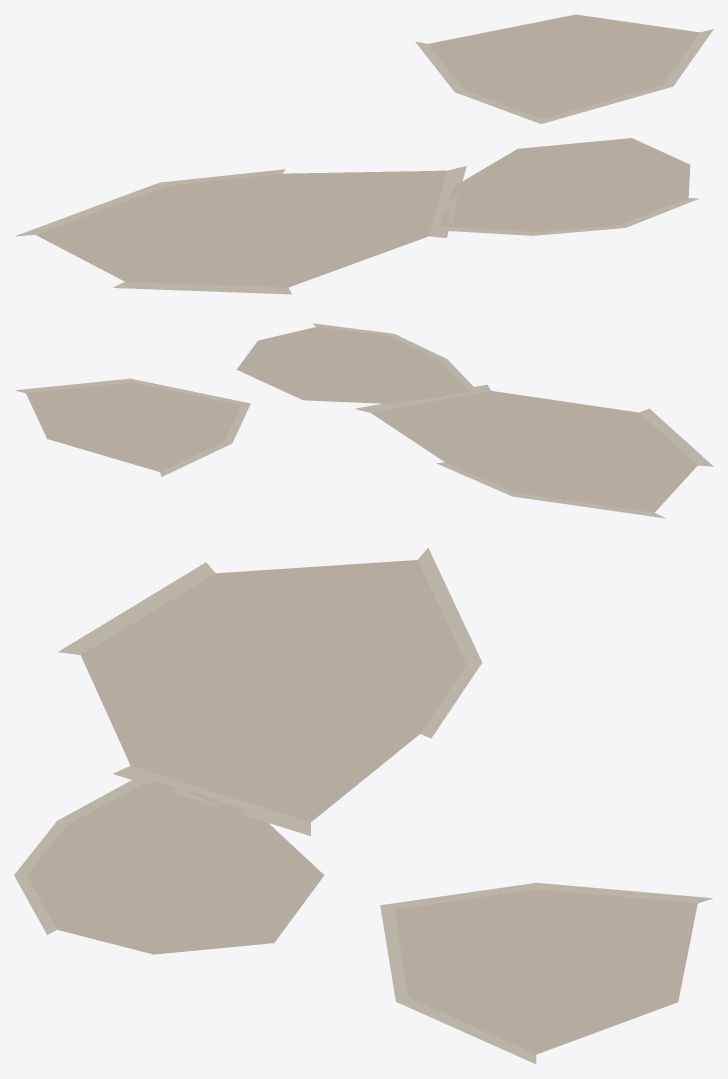
File: SM_MS3_PortableFeed_0.fbx
3 renders of one model, top to bottom at view 1: azimuth 30°, elevation 25°; view 2: azimuth 150°, elevation 25°; view 3: azimuth 270°, elevation 25°, orthographic. The views are drawn at different scales.
Parts seen in each view (by area): view 1: SM_MS3_PortableFeed_0; view 2: SM_MS3_PortableFeed_0; view 3: SM_MS3_PortableFeed_0.
Boxes of the visible parts, box(x1,y1,x2,y2) form: SM_MS3_PortableFeed_0: box(15, 14, 713, 294); SM_MS3_PortableFeed_0: box(15, 323, 713, 518); SM_MS3_PortableFeed_0: box(14, 548, 712, 1063).
Bounding box in the file's own units: 1.79 × 1.02 × 0.
